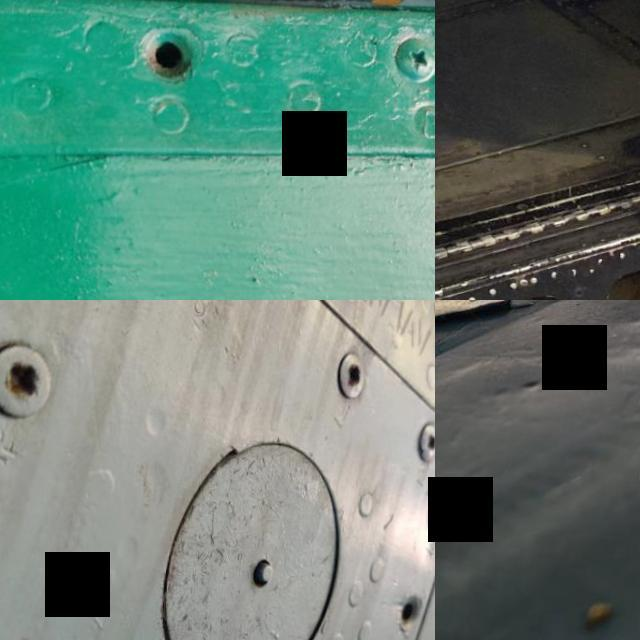Crack: (435, 300, 548, 380)
Missing_Fastener: (117, 0, 236, 116), (377, 569, 435, 640)
